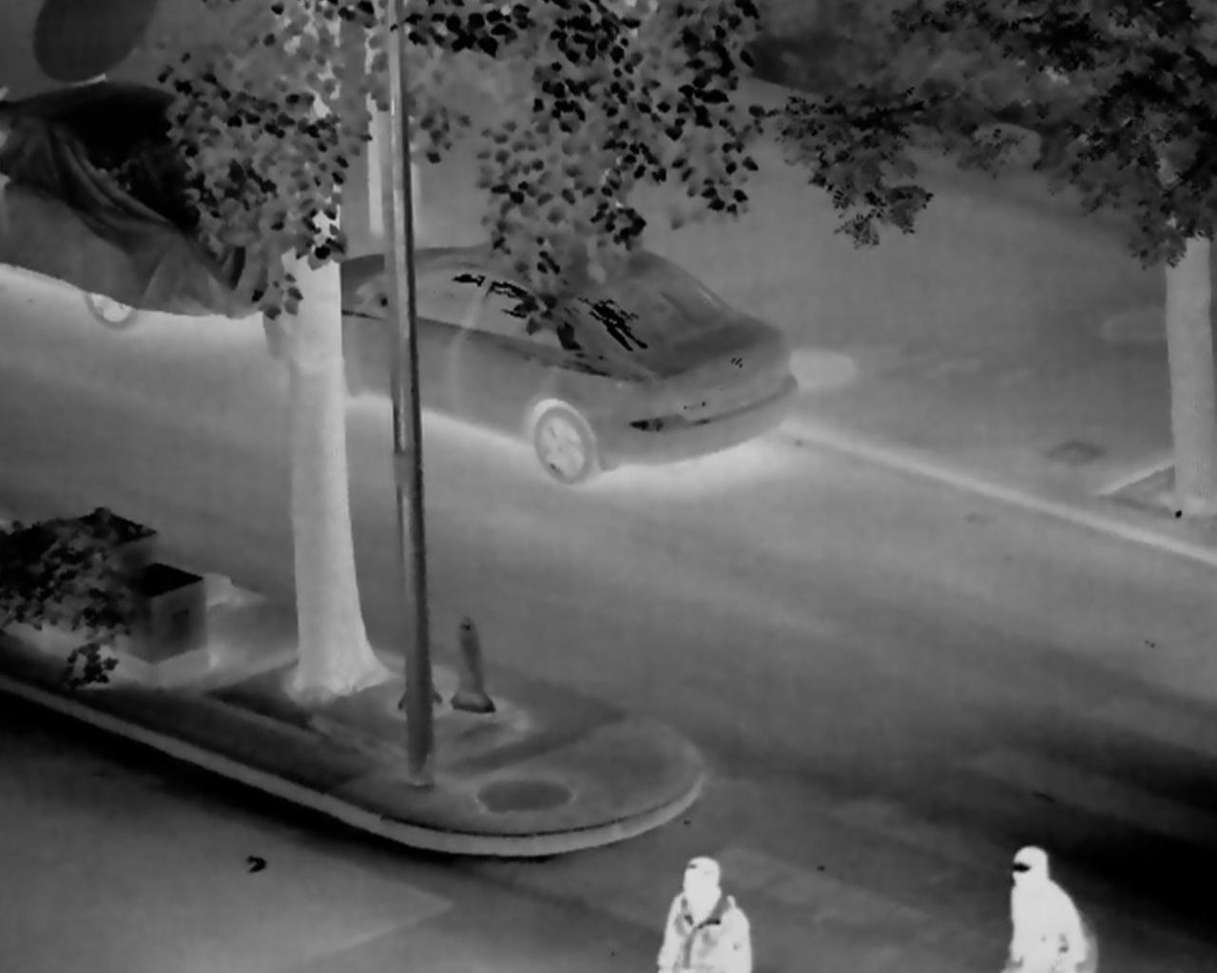person: (652, 855, 755, 973), (1002, 844, 1089, 973)
